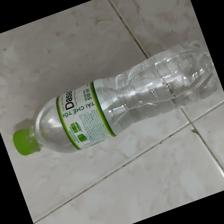Dasani: (10, 40, 221, 157)
